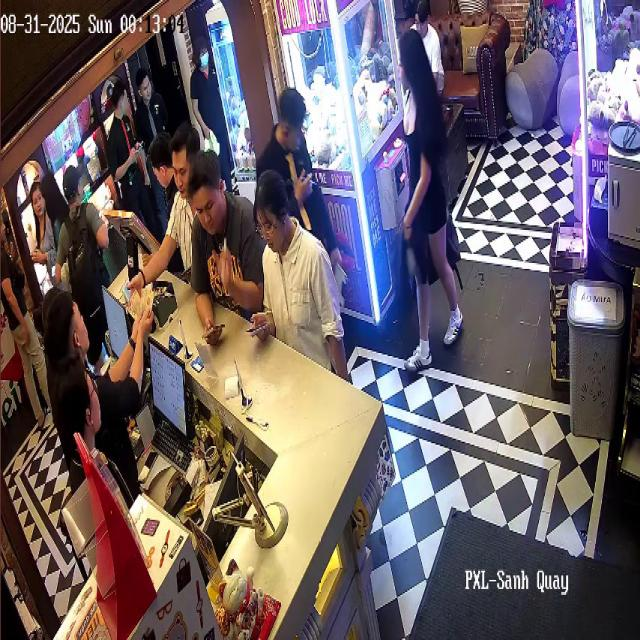khach: (392, 43, 468, 393), (251, 174, 345, 401), (190, 157, 266, 349), (52, 159, 121, 320), (1, 224, 46, 441), (162, 140, 206, 305), (407, 2, 456, 124), (22, 177, 66, 290)
nhan vien: (42, 278, 149, 472), (260, 76, 350, 288), (60, 352, 130, 498), (188, 27, 242, 195), (103, 76, 149, 205), (134, 50, 173, 144)
